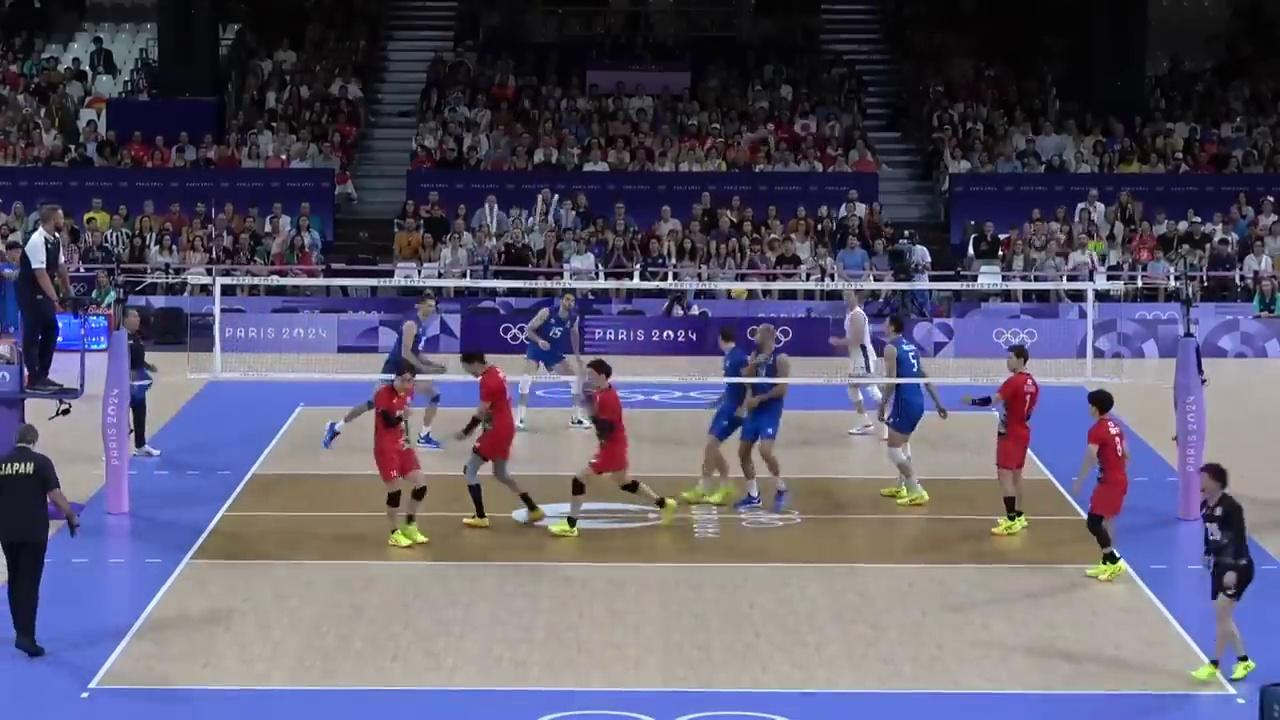ball: (732, 290, 748, 299)
